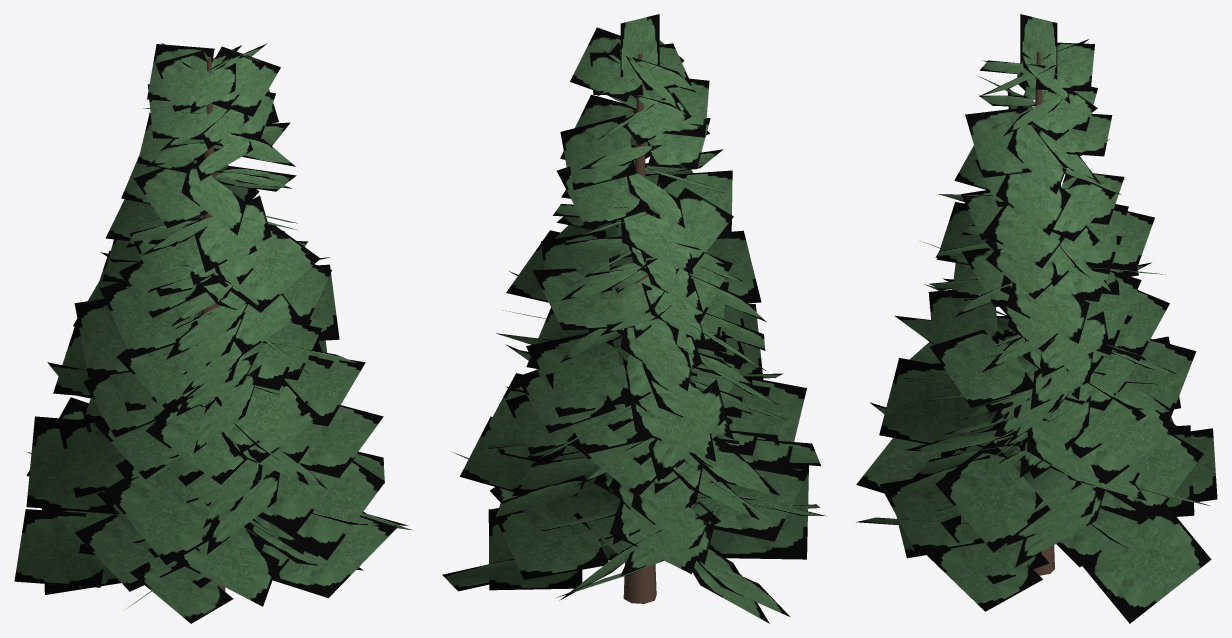
Rendered from pine_2_mid.glb.
3 views of the same model, side by side, from view 1: azimuth 30°, elevation 25°; view 2: azimuth 150°, elevation 25°; view 3: azimuth 270°, elevation 25° (orthographic). The views are drawn at different scales.
Parts seen in each view (by area): view 1: pine_2_mid; view 2: pine_2_mid; view 3: pine_2_mid.
Boxes of the visible parts, x1,y1,x2,y2 form: pine_2_mid: (14,43,412,623); pine_2_mid: (442,14,826,623); pine_2_mid: (856,14,1217,623).
Bounding box in the file's own units: 7.63 × 11.96 × 7.13.
Materials: 2 (1 with a texture image).
